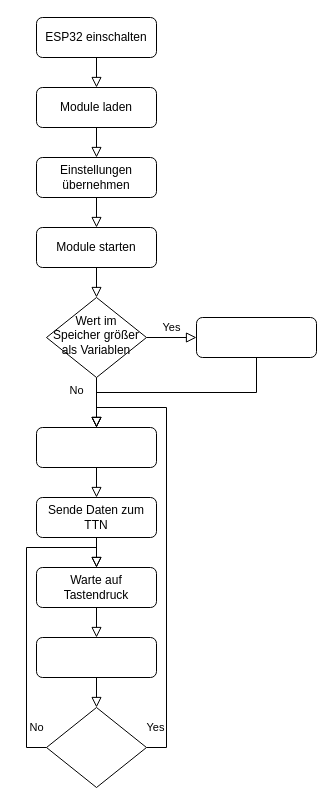
The diagram is 334 pixels wide and 805 high, and some of its shapes have lost their labels. Each missing label, with the centre of its shape:
6 Minuten vorbei: [96,747]
Kopiere Speicher in Variablen: [256,337]
Speichere Wert in Speicher und zeige an: [96,657]
Wandle Wert von DEC zu HEX um: [96,447]
